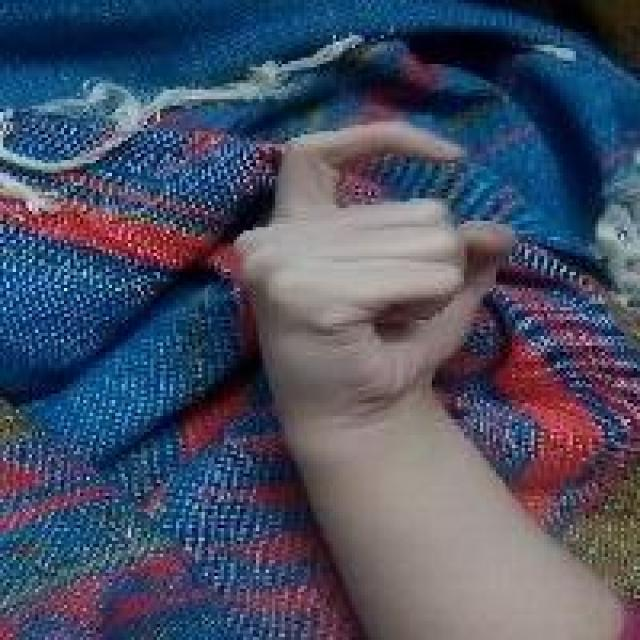X: (227, 117, 522, 414)
